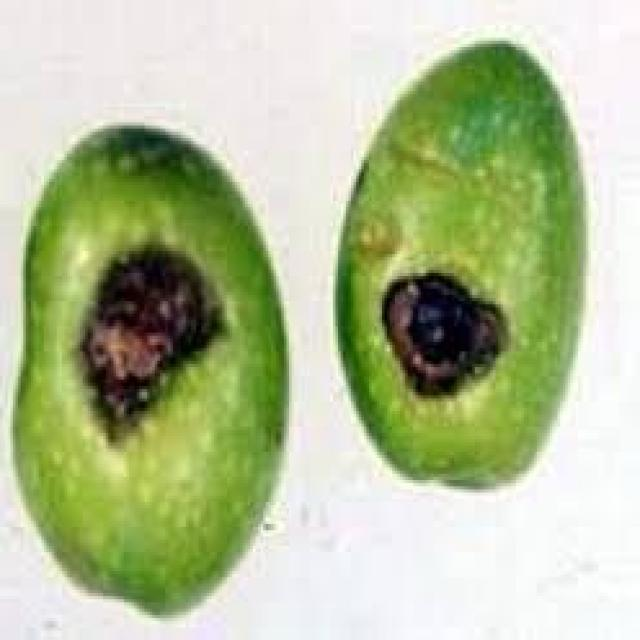Anthracnose: (12, 126, 286, 612), (338, 41, 583, 483)
